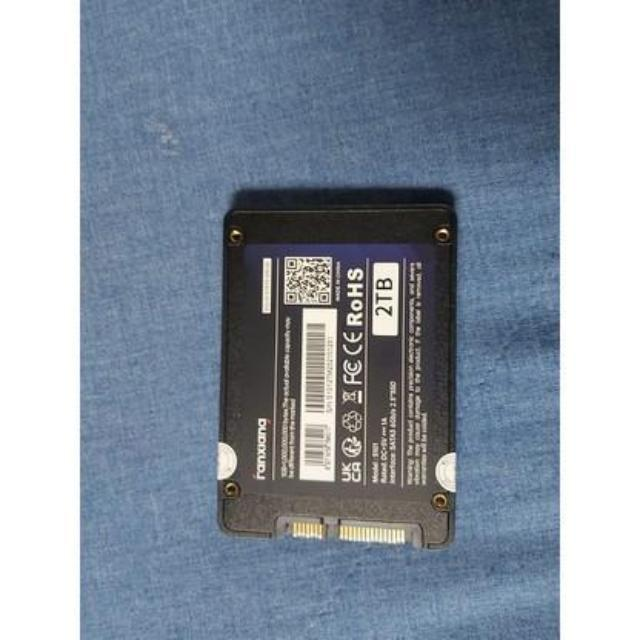DISK: (220, 204, 455, 548)
